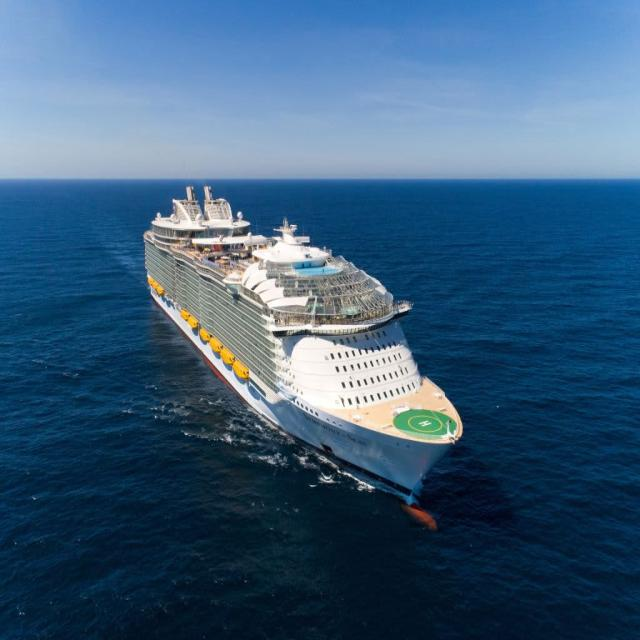passenger ship: (141, 182, 465, 530)
